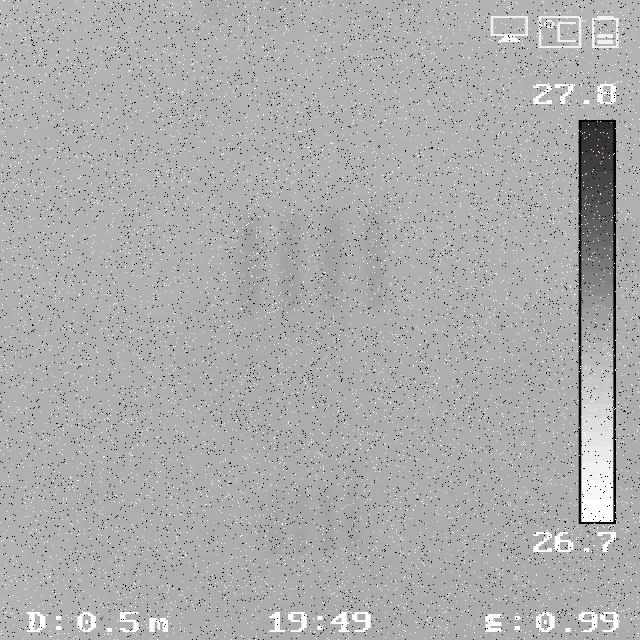threshold 4-bar target: (239, 208, 397, 305), (260, 486, 363, 557)
